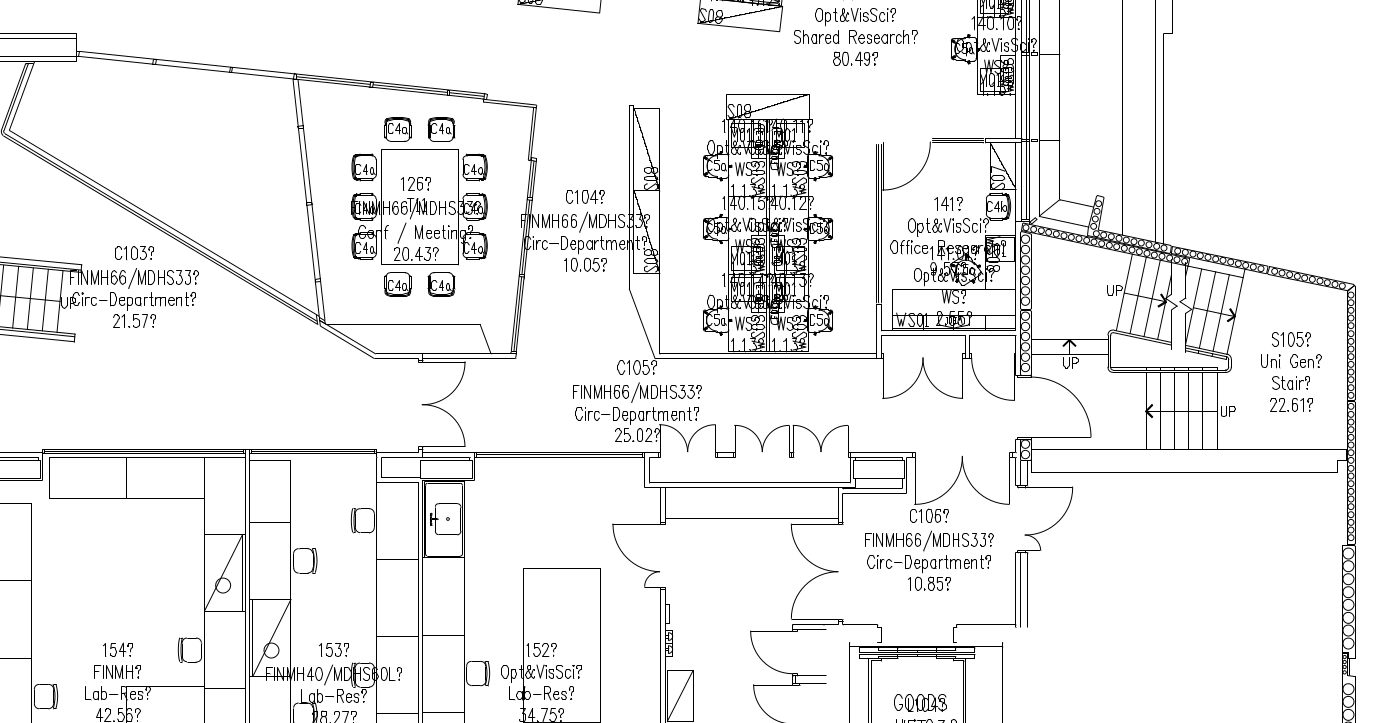door: (1030, 372, 1098, 443), (1016, 482, 1082, 536), (963, 448, 1011, 513), (914, 442, 962, 507), (875, 347, 923, 412), (921, 348, 969, 413), (970, 344, 1018, 409), (883, 128, 931, 193), (788, 520, 845, 572), (787, 570, 844, 622), (609, 520, 666, 572), (741, 623, 798, 675), (416, 357, 476, 405), (414, 401, 474, 449), (737, 678, 798, 723), (654, 418, 688, 461), (687, 419, 721, 462), (728, 417, 762, 460), (761, 419, 791, 463), (791, 420, 821, 463), (820, 421, 850, 464), (635, 569, 668, 594), (1012, 533, 1043, 558)
